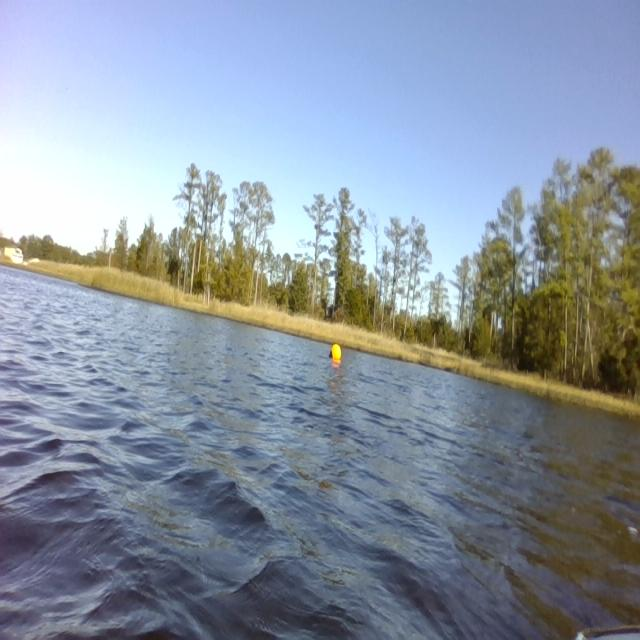Buoy: (328, 341, 343, 364)
